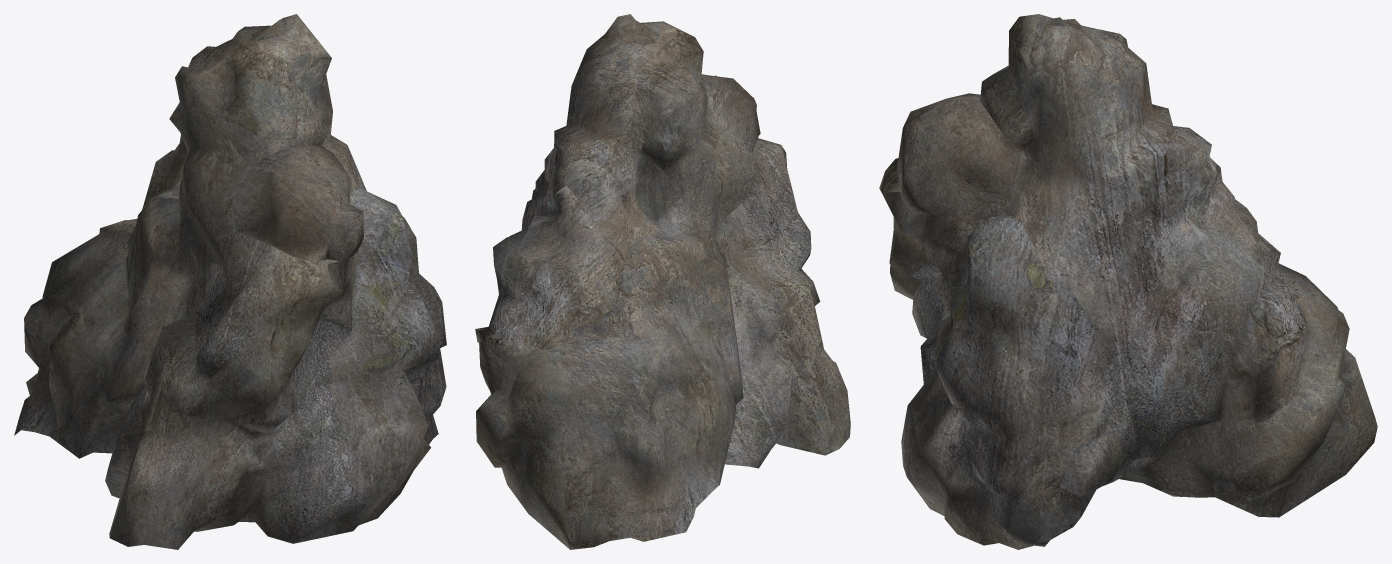
The model's file is RockWall1.fbx.
3 renders of one model, left to right at view 1: azimuth 30°, elevation 25°; view 2: azimuth 150°, elevation 25°; view 3: azimuth 270°, elevation 25°, orthographic. The views are drawn at different scales.
Parts seen in each view (by area): view 1: LV_GrassLand_Rock_NForestArea02_SM_LHJ.001; view 2: LV_GrassLand_Rock_NForestArea02_SM_LHJ.001; view 3: LV_GrassLand_Rock_NForestArea02_SM_LHJ.001.
Part boxes in pixels (x1=…): LV_GrassLand_Rock_NForestArea02_SM_LHJ.001: x1=14, y1=14, x2=446, y2=549; LV_GrassLand_Rock_NForestArea02_SM_LHJ.001: x1=475, y1=14, x2=850, y2=549; LV_GrassLand_Rock_NForestArea02_SM_LHJ.001: x1=879, y1=14, x2=1377, y2=549.
Size of the model in its own units: 4.57 by 6.06 by 5.54.
1 material, 1 textured.
